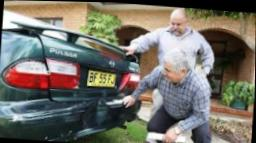Bumper: (7, 99, 124, 139)
Dickey: (52, 88, 118, 102)
